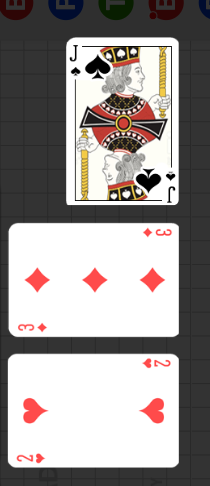2H: (140, 357, 172, 370)
3D: (141, 227, 173, 239)
7S: (67, 44, 81, 78)
